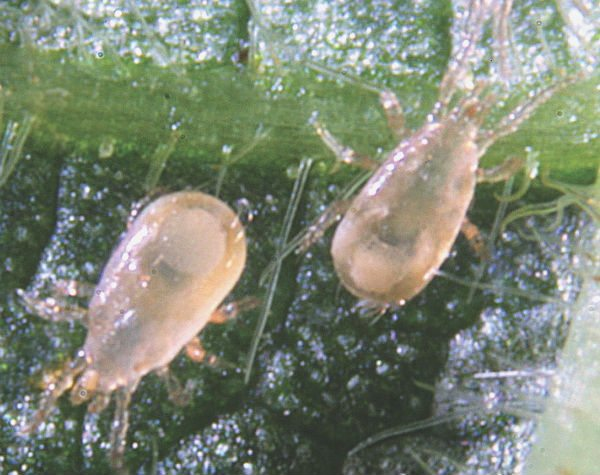Mites: (297, 68, 549, 330), (48, 159, 247, 441)
